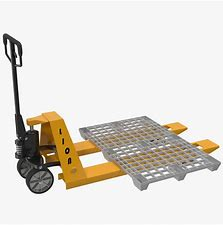Pallet Jack: (2, 33, 221, 195)
